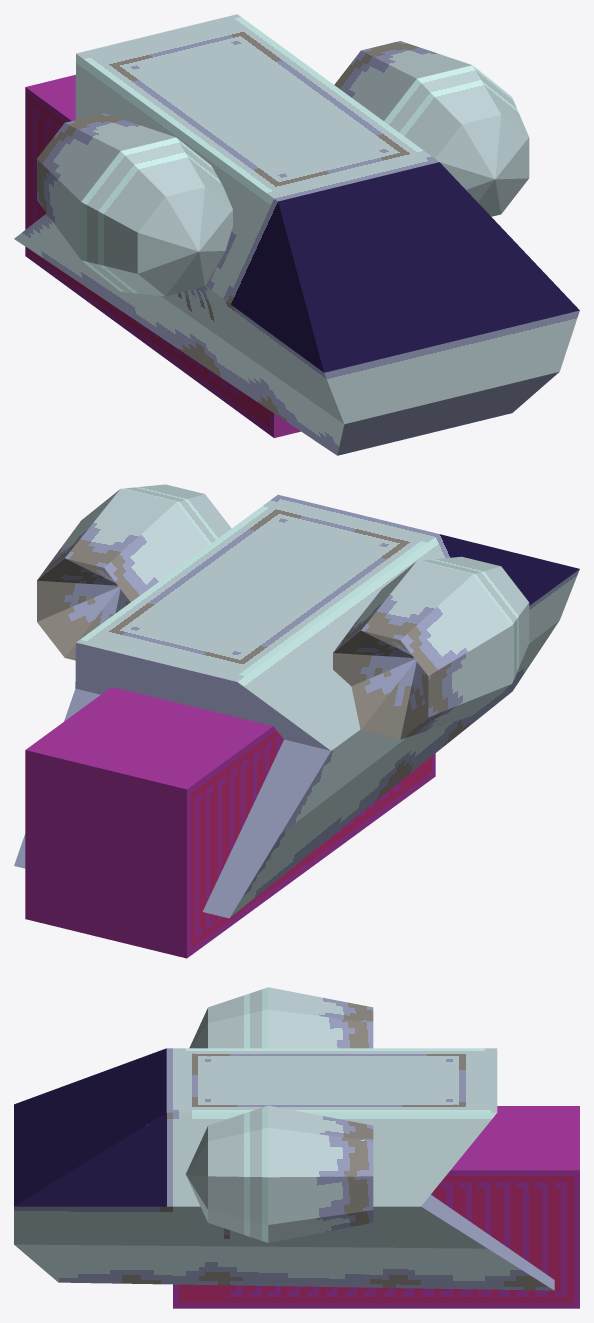
The model's file is spaceShuttle.gltf.
3 views of the same model, one above another, from view 1: azimuth 30°, elevation 25°; view 2: azimuth 150°, elevation 25°; view 3: azimuth 270°, elevation 25° (orthographic). The views are drawn at different scales.
Parts seen in each view (by area): view 1: cuboid, sphere (×2), container; view 2: cuboid, container, sphere (×2); view 3: cuboid, sphere (×2), container.
Boxes of the visible parts, box(x1,y1,x2,y2) form: cuboid: box(14, 14, 579, 455); sphere (×2): box(37, 41, 529, 296); container: box(25, 74, 300, 437); cuboid: box(14, 494, 579, 918); container: box(25, 687, 435, 958); sphere (×2): box(37, 484, 529, 739); cuboid: box(14, 1048, 554, 1290); sphere (×2): box(185, 987, 373, 1242); container: box(173, 1106, 579, 1308).
Size of the model in its own units: 4 by 2.38 by 5.56.
Materials: 1 (1 with a texture image).
